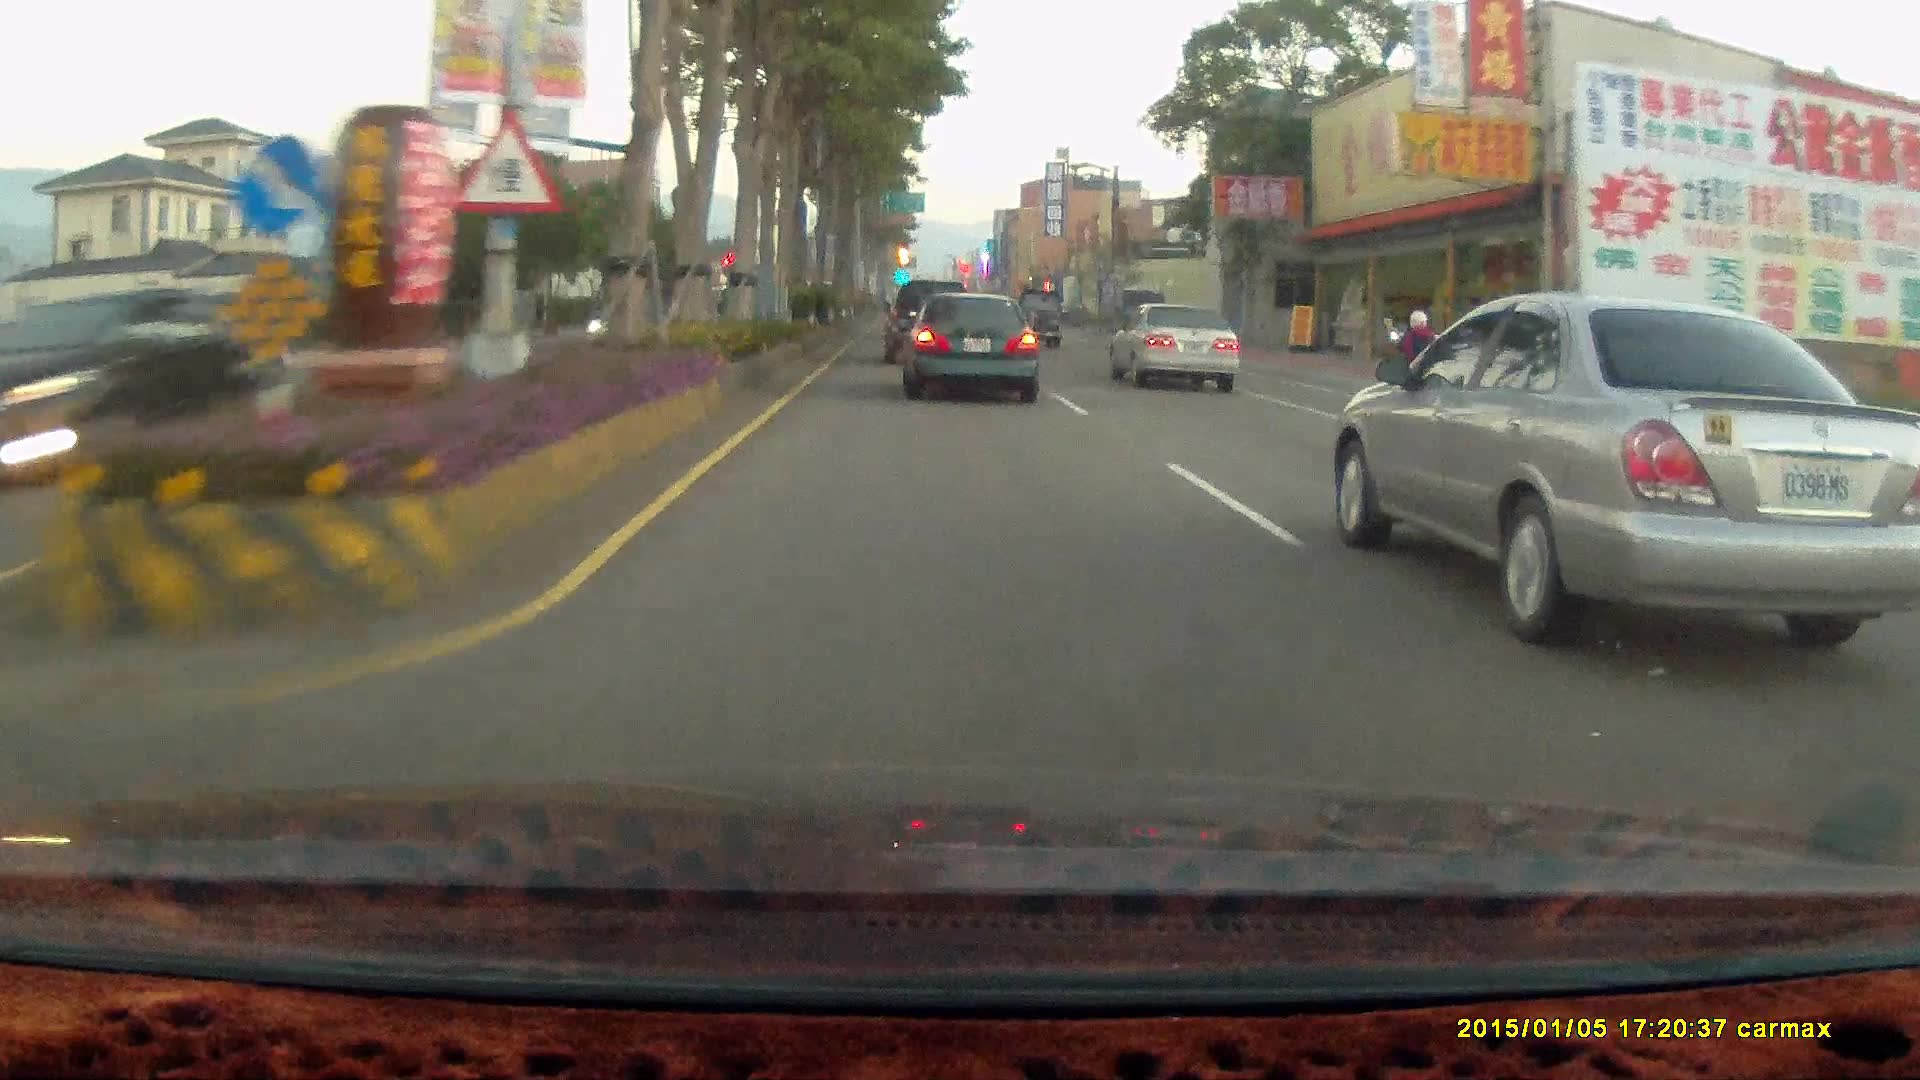rider: (1388, 302, 1448, 413), (1389, 320, 1445, 429)
vehicle: (1342, 289, 1920, 637), (0, 290, 260, 485), (21, 293, 234, 459), (899, 289, 1046, 409), (898, 293, 1041, 405), (113, 320, 293, 392), (1105, 302, 1241, 392), (1121, 303, 1252, 392), (883, 279, 974, 369), (883, 283, 967, 368), (1008, 289, 1063, 349)
